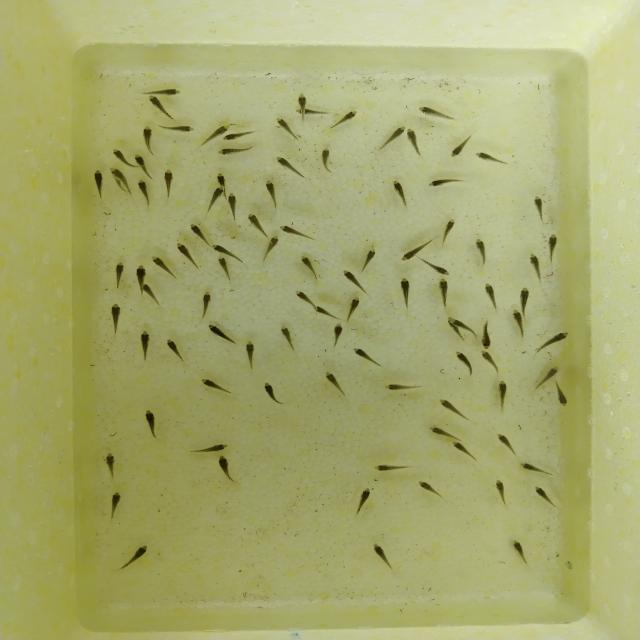fingerling: (115, 545, 150, 571), (503, 538, 532, 569), (206, 324, 240, 349), (198, 376, 235, 396), (438, 395, 470, 418), (324, 372, 350, 399), (532, 484, 561, 508), (379, 125, 406, 150), (453, 350, 477, 378), (274, 156, 304, 178), (353, 346, 382, 368), (274, 116, 300, 140), (338, 268, 364, 292), (372, 544, 396, 570), (246, 212, 270, 238), (540, 328, 571, 348), (426, 425, 462, 442), (449, 439, 478, 460), (151, 251, 176, 275), (328, 111, 358, 131), (481, 350, 504, 376), (141, 280, 164, 306), (214, 454, 234, 483), (520, 461, 554, 478), (495, 432, 519, 456), (175, 243, 198, 268), (416, 478, 444, 498), (446, 137, 469, 161), (401, 244, 430, 263), (132, 154, 154, 179), (144, 94, 170, 115), (474, 150, 508, 166), (105, 486, 122, 518), (263, 383, 283, 410), (416, 106, 452, 121), (356, 487, 374, 517), (435, 277, 452, 308), (164, 338, 185, 363), (397, 275, 410, 315), (405, 126, 422, 156), (479, 318, 494, 352), (208, 182, 226, 210), (186, 220, 210, 241), (474, 240, 492, 268), (360, 245, 380, 270), (345, 297, 364, 323), (108, 302, 125, 331), (390, 178, 408, 205), (110, 165, 130, 189), (199, 290, 213, 324), (439, 218, 457, 244), (425, 260, 451, 278), (522, 252, 540, 278), (534, 195, 549, 226), (510, 309, 526, 338), (299, 257, 319, 280), (261, 235, 281, 258), (212, 254, 230, 279), (310, 304, 338, 320), (138, 328, 152, 360), (112, 262, 128, 290), (278, 324, 295, 350), (136, 178, 153, 204), (484, 283, 499, 311), (141, 409, 155, 439), (319, 146, 333, 176), (277, 225, 309, 238), (554, 386, 572, 409), (266, 183, 281, 210), (208, 170, 230, 188), (132, 264, 147, 290), (496, 380, 509, 410), (101, 451, 115, 478), (546, 231, 560, 258), (495, 480, 509, 507), (92, 166, 106, 193), (143, 89, 185, 98), (208, 242, 234, 256), (218, 147, 258, 156), (425, 178, 461, 188), (162, 167, 173, 199), (539, 364, 561, 380), (245, 338, 258, 365), (157, 124, 195, 133), (219, 132, 253, 142), (294, 289, 314, 306), (200, 442, 233, 452), (142, 124, 154, 151), (384, 382, 416, 392), (520, 286, 531, 315), (292, 107, 326, 116), (225, 191, 236, 218), (370, 464, 407, 472), (332, 322, 346, 343), (210, 122, 233, 134), (112, 147, 127, 165), (297, 90, 310, 108), (446, 317, 469, 327)
